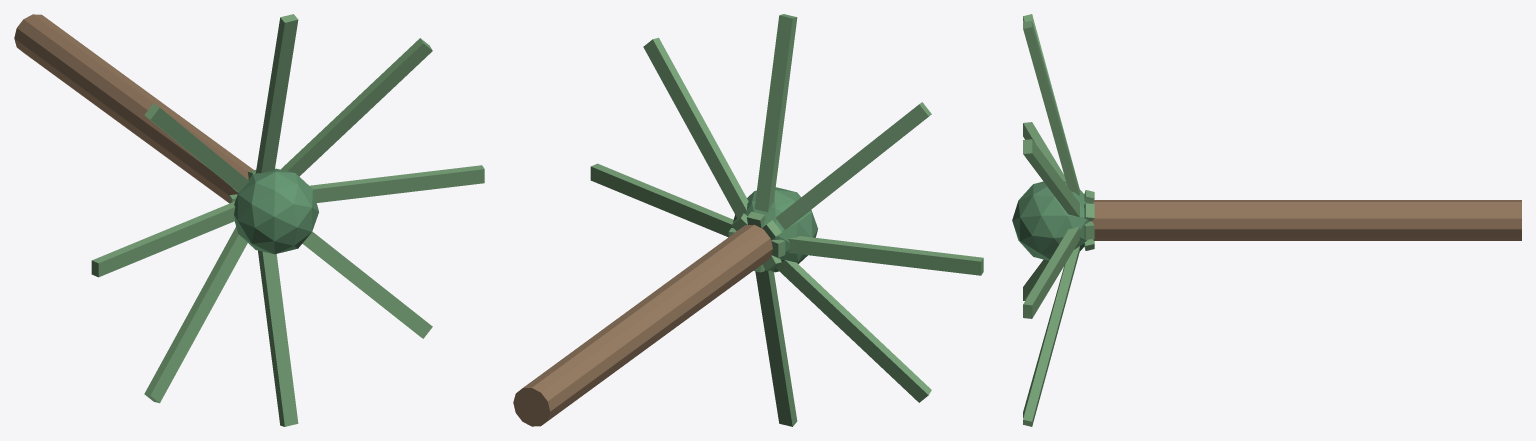
Rendered from tropical_palm_tree.glb.
3 views of the same model, side by side, from view 1: azimuth 30°, elevation 25°; view 2: azimuth 150°, elevation 25°; view 3: azimuth 270°, elevation 25° (orthographic). The views are drawn at different scales.
Visible parts, largest first — view 1: trunk, crown, frond5, frond1, frond6, frond0, frond2, frond4, frond7, frond3; view 2: trunk, frond5, frond1, frond2, frond4, frond6, frond0, frond3, crown; view 3: trunk, crown, frond2, frond7, frond0, frond1, frond4, frond5.
Part boxes in pixels (x1,y1,x2,y2): trunk: [14, 14, 253, 203]; crown: [234, 168, 318, 254]; frond5: [144, 227, 247, 403]; frond1: [281, 38, 432, 176]; frond6: [248, 170, 298, 426]; frond0: [229, 165, 484, 203]; frond2: [255, 14, 298, 173]; frond4: [91, 201, 235, 277]; frond7: [232, 188, 432, 338]; frond3: [144, 103, 249, 192]; trunk: [513, 225, 772, 426]; frond5: [731, 213, 931, 402]; frond1: [643, 37, 781, 271]; frond2: [753, 14, 797, 272]; frond4: [728, 228, 983, 275]; frond6: [747, 211, 797, 426]; frond0: [590, 163, 785, 257]; frond3: [775, 102, 931, 229]; crown: [733, 187, 817, 272]; trunk: [1089, 200, 1521, 240]; crown: [1012, 181, 1089, 260]; frond2: [1023, 20, 1094, 242]; frond7: [1023, 190, 1093, 426]; frond0: [1023, 226, 1079, 318]; frond1: [1023, 139, 1079, 217]; frond4: [1023, 122, 1094, 239]; frond5: [1023, 203, 1094, 300].
Size of the model in its own units: 4.64 by 4.64 by 5.45.
